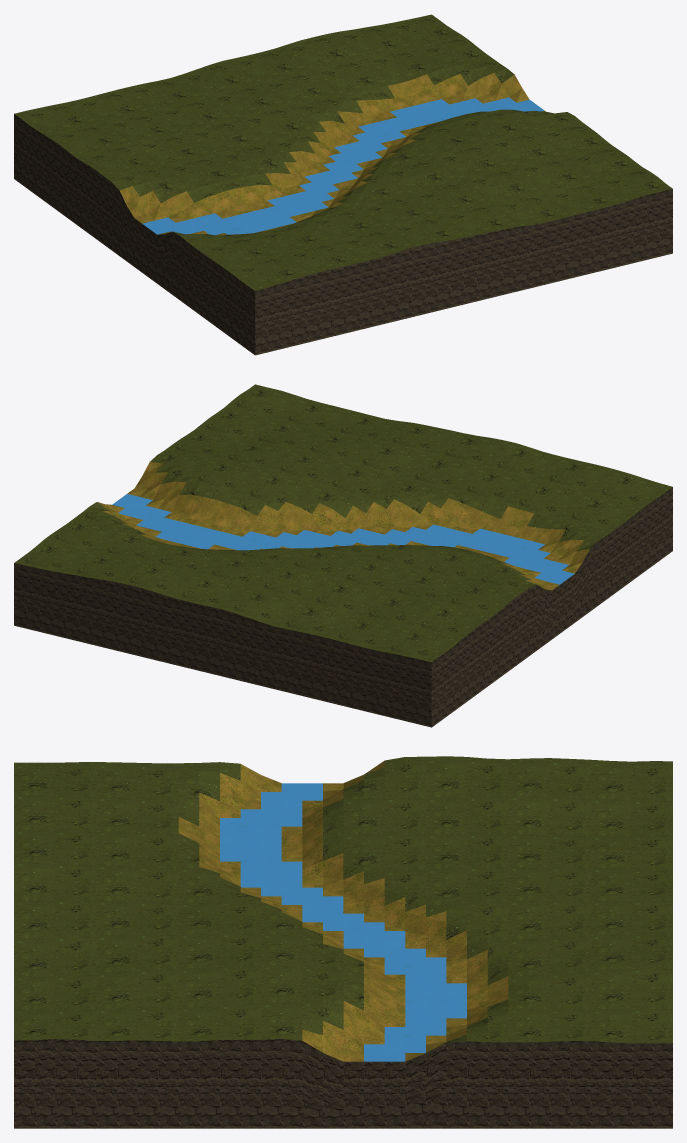
The model's file is river_bend_01.glb.
3 views of the same model, one above another, from view 1: azimuth 30°, elevation 25°; view 2: azimuth 150°, elevation 25°; view 3: azimuth 270°, elevation 25° (orthographic). The views are drawn at different scales.
Parts seen in each view (by area): view 1: river_bend_01; view 2: river_bend_01; view 3: river_bend_01.
Boxes of the visible parts, <box> form: river_bend_01: <box>14,14,672,355</box>; river_bend_01: <box>14,384,672,727</box>; river_bend_01: <box>14,756,672,1128</box>.
Size of the model in its own units: 16 by 2.58 by 16.
Materials: 4 (4 with a texture image).
